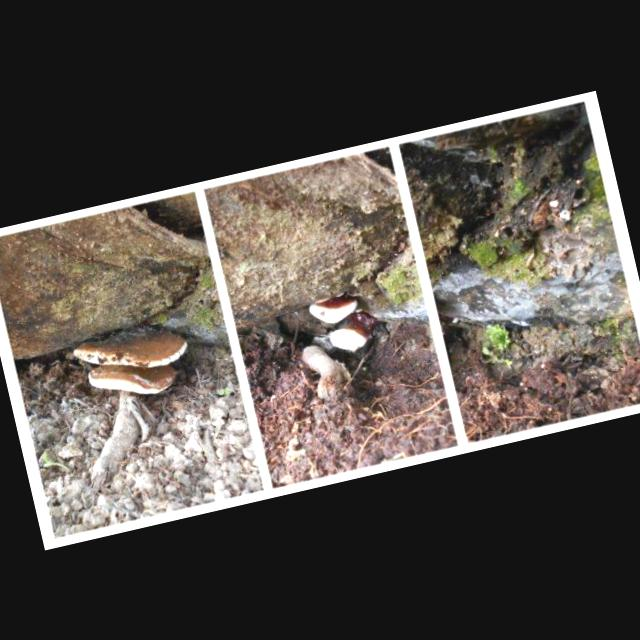ganoderma: (72, 317, 195, 388), (85, 349, 182, 410)
primordium: (327, 317, 377, 359), (310, 291, 363, 330), (556, 208, 576, 227), (548, 198, 563, 211)
